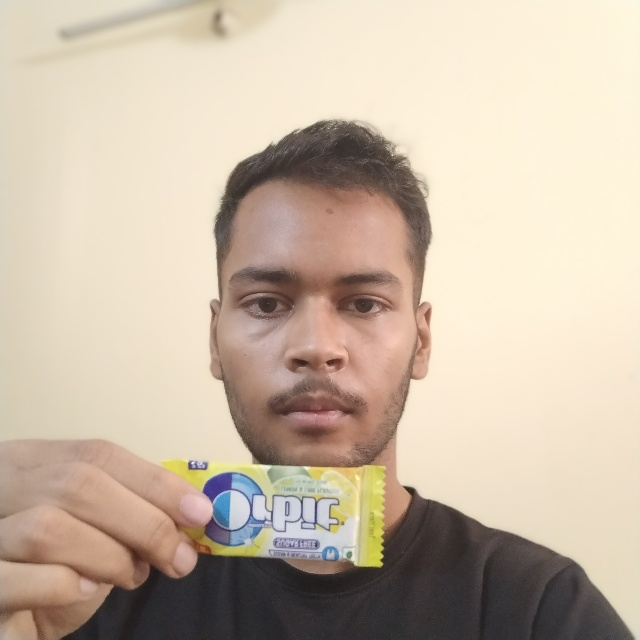Orbit: (159, 460, 386, 565)
